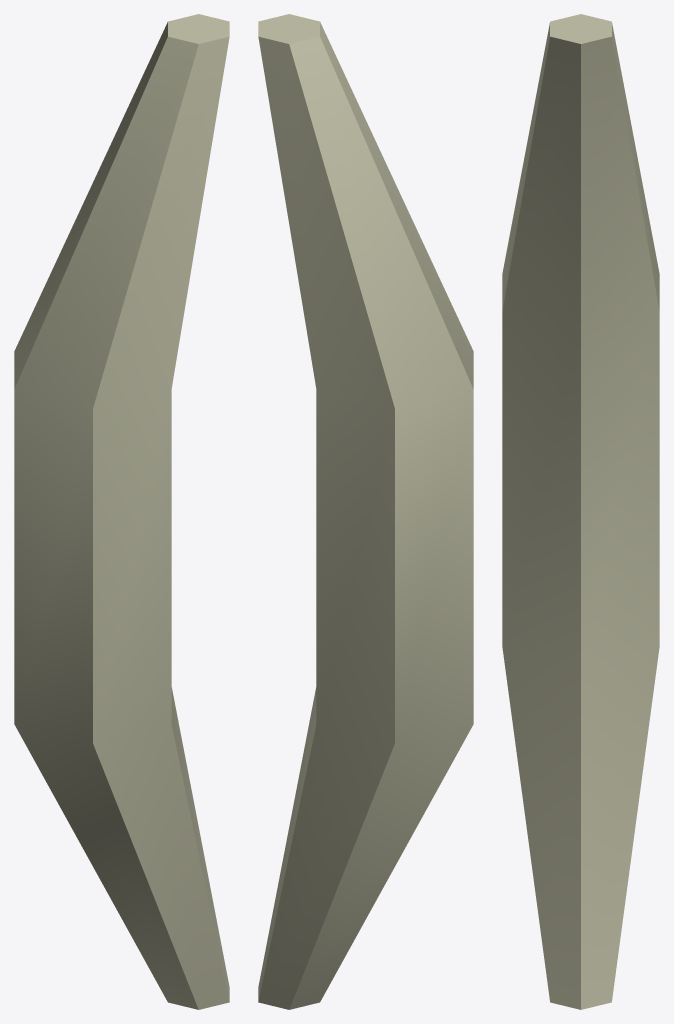
Rendered from Banana.fbx.
3 views of the same model, side by side, from view 1: azimuth 30°, elevation 25°; view 2: azimuth 150°, elevation 25°; view 3: azimuth 270°, elevation 25° (orthographic).
Parts seen in each view (by area): view 1: pCylinder3; view 2: pCylinder3; view 3: pCylinder3.
Part boxes in pixels (x1,y1,x2,y2): pCylinder3: [14, 14, 229, 1009]; pCylinder3: [258, 14, 473, 1009]; pCylinder3: [502, 14, 659, 1009].
Bounding box in the file's own units: 6.88 × 29.51 × 4.35.
